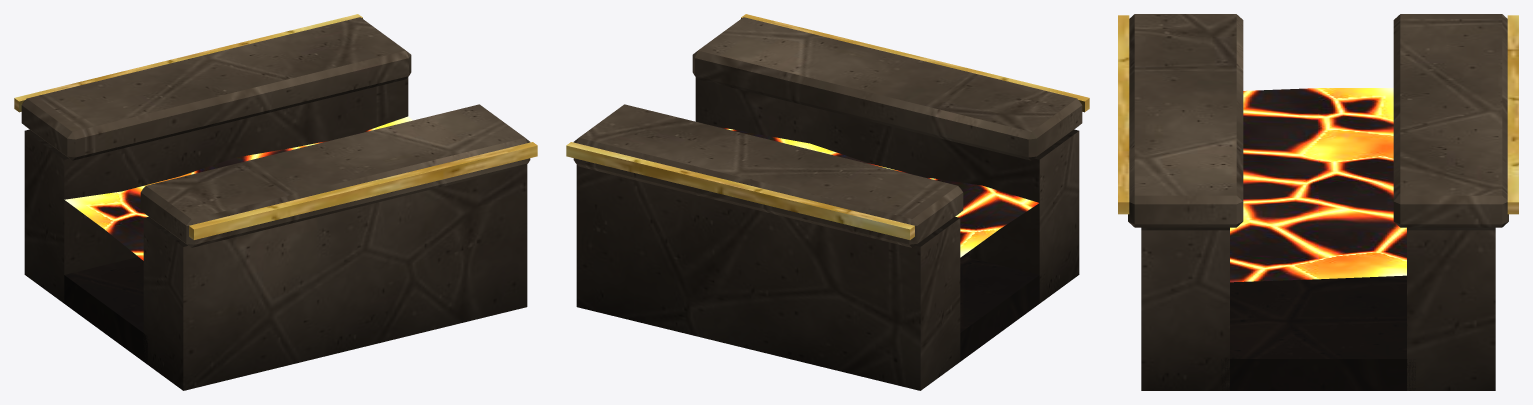
The model's file is interior_lava_trough.glb.
3 views of the same model, side by side, from view 1: azimuth 30°, elevation 25°; view 2: azimuth 150°, elevation 25°; view 3: azimuth 270°, elevation 25° (orthographic). The views are drawn at different scales.
Visible parts, largest first — view 1: interior_lava_trough; view 2: interior_lava_trough; view 3: interior_lava_trough.
Part boxes in pixels (x1=…): interior_lava_trough: x1=14, y1=14, x2=537, y2=390; interior_lava_trough: x1=566, y1=14, x2=1089, y2=390; interior_lava_trough: x1=1118, y1=14, x2=1518, y2=390.
Bounding box in the file's own units: 1 × 0.48 × 0.905.
4 materials, 3 textured.
